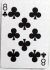eight: (1, 1, 48, 69)
